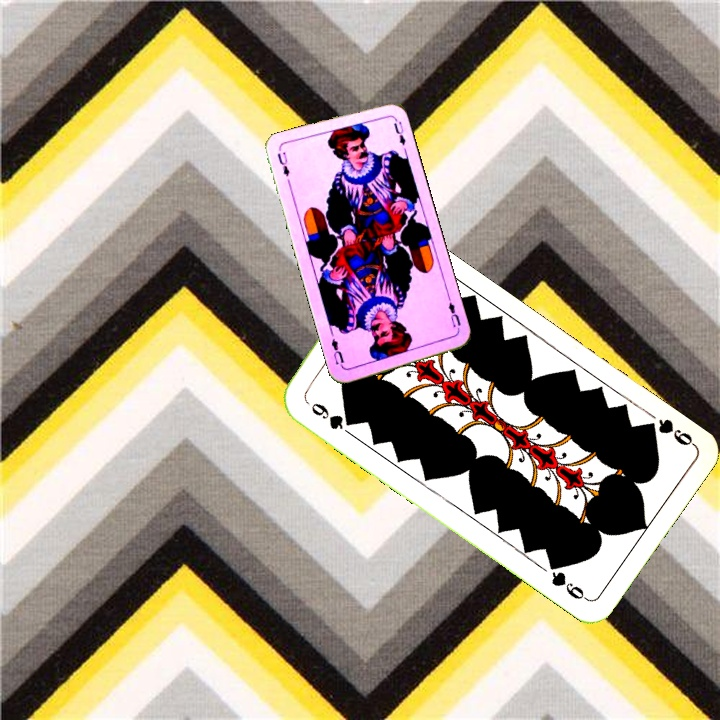EU: (444, 294, 463, 334), (273, 147, 292, 179)
G9: (639, 414, 697, 449), (307, 398, 357, 433)
